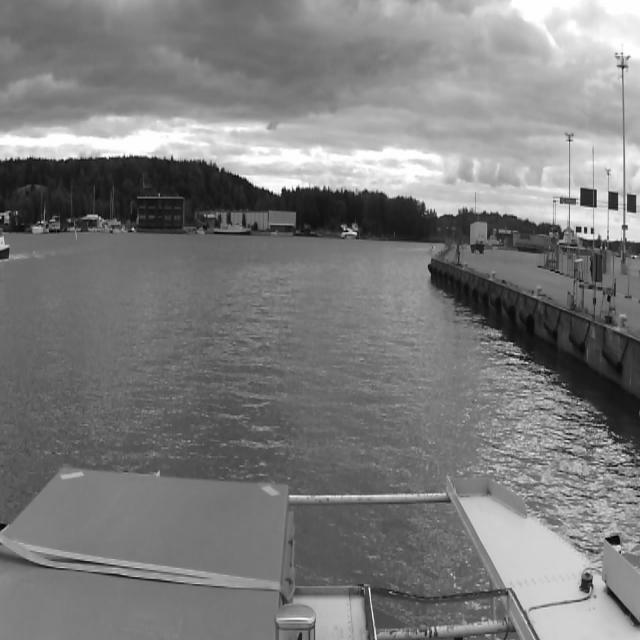buoy: (72, 220, 78, 242)
ship: (215, 221, 251, 232), (340, 222, 358, 241), (197, 227, 205, 236)
